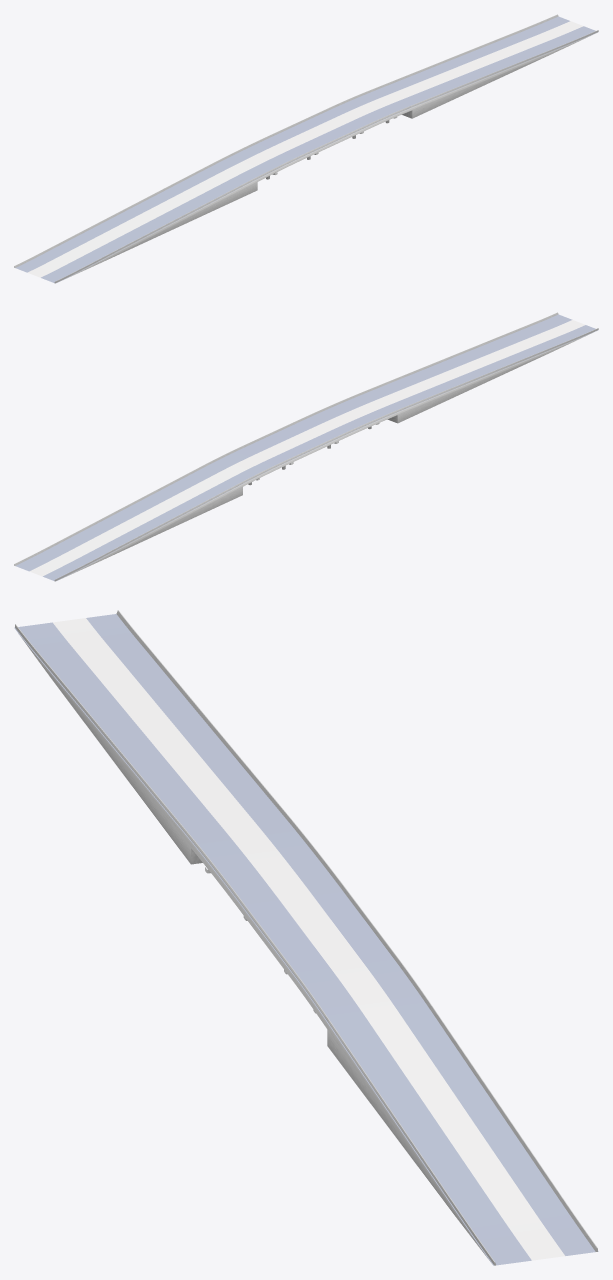
The model's file is Saina-Tole-Bi.glb.
The picture shows the model from 3 angles, top to bottom: view 1: azimuth 30°, elevation 25°; view 2: azimuth 210°, elevation 25°; view 3: azimuth 270°, elevation 25°; orthographic projection. The views are drawn at different scales.
Visible parts, largest first — view 1: group_0, group_2, group_1.001; view 2: group_0, group_2, group_1.001; view 3: group_0, group_2, group_1.001.
Part boxes in pixels (<box>): group_0: <box>15,16,598,283</box>; group_2: <box>27,21,583,277</box>; group_1.001: <box>14,14,598,283</box>; group_0: <box>15,314,598,581</box>; group_2: <box>29,320,585,576</box>; group_1.001: <box>14,312,598,581</box>; group_0: <box>14,614,598,1265</box>; group_2: <box>53,618,564,1260</box>; group_1.001: <box>15,610,597,1265</box>.
Size of the model in its own units: 402 by 8 by 152.
3 materials, 1 textured.
